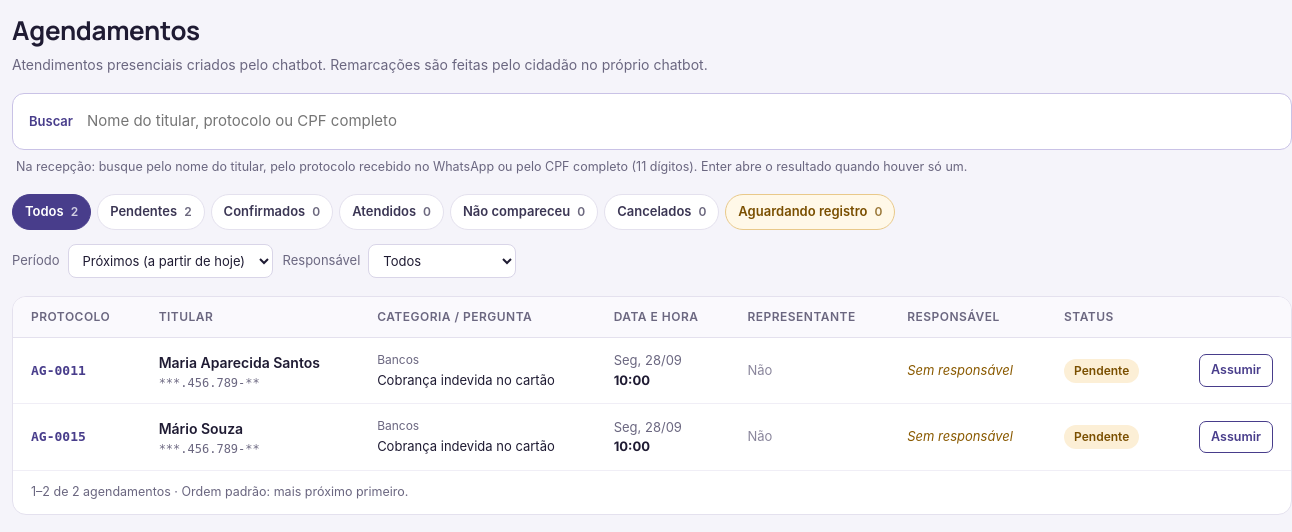
Appointments.page: busca › não avisa sobre CPF com os 11 dígitos nem com letras
Expected: the text "Maria Aparecida Santos" is shown, [159,352,341,372]
Type "11122233344" into the search field labelled "Buscar" at (684, 121), box [83,100,1285,142]
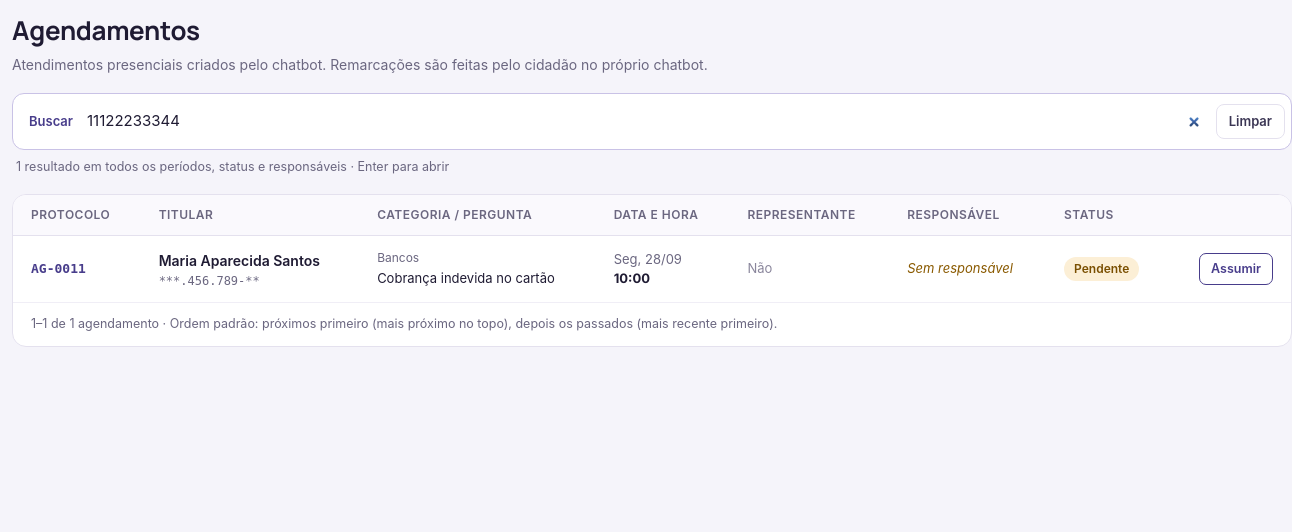
Now the text "1 resultado" is shown, box [16,158,449,174]
Clear the search field labelled "Buscar" at (644, 121), box [83,100,1206,142]
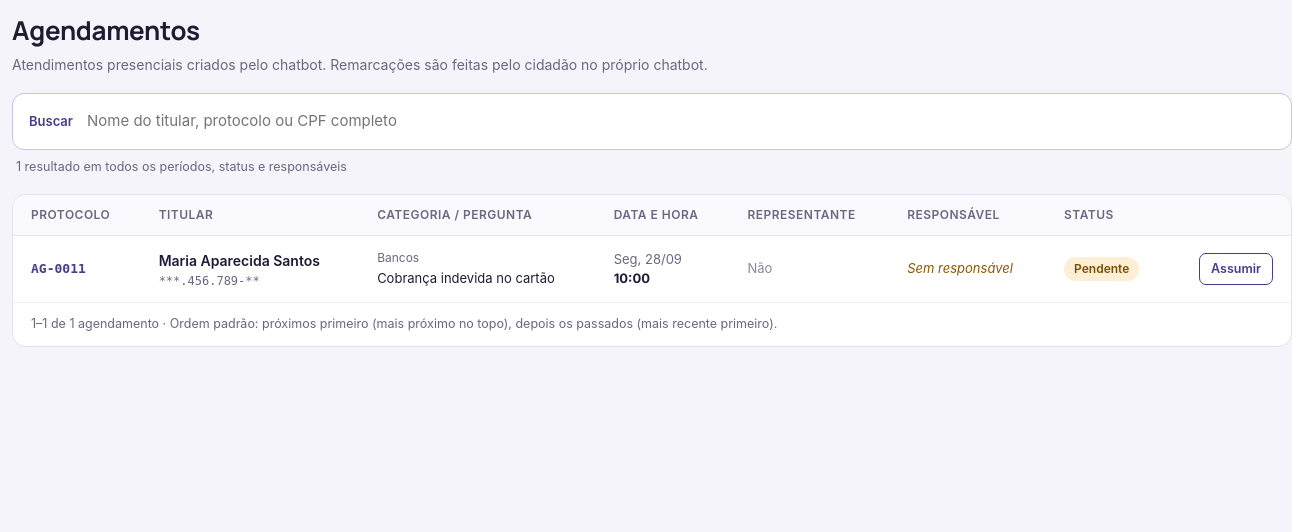
Type "Ana 12" into the search field labelled "Buscar" at (684, 121), box [83,100,1285,142]
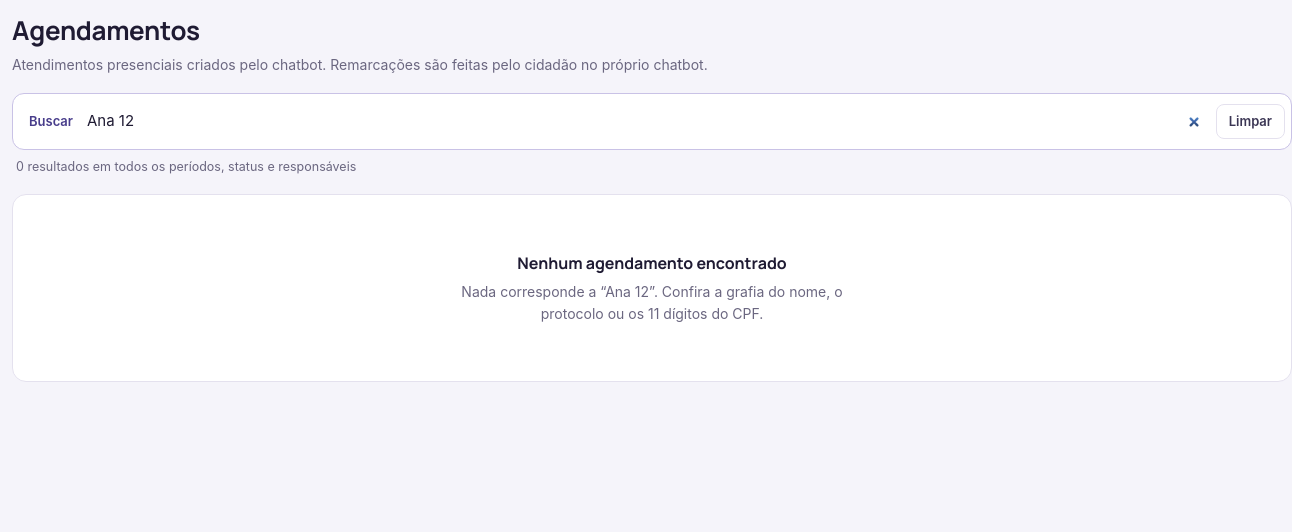
Now the text "0 resultados em todos os períodos, status e responsáveis" is shown, box [16,158,356,174]
